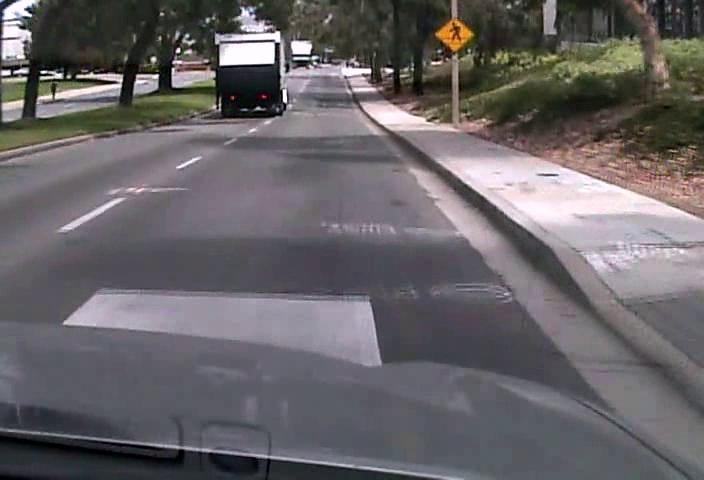pedestrianCrossing: (433, 15, 475, 51)
